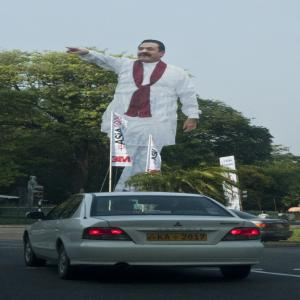Vehicle-registration-plate: (148, 234, 208, 241)
